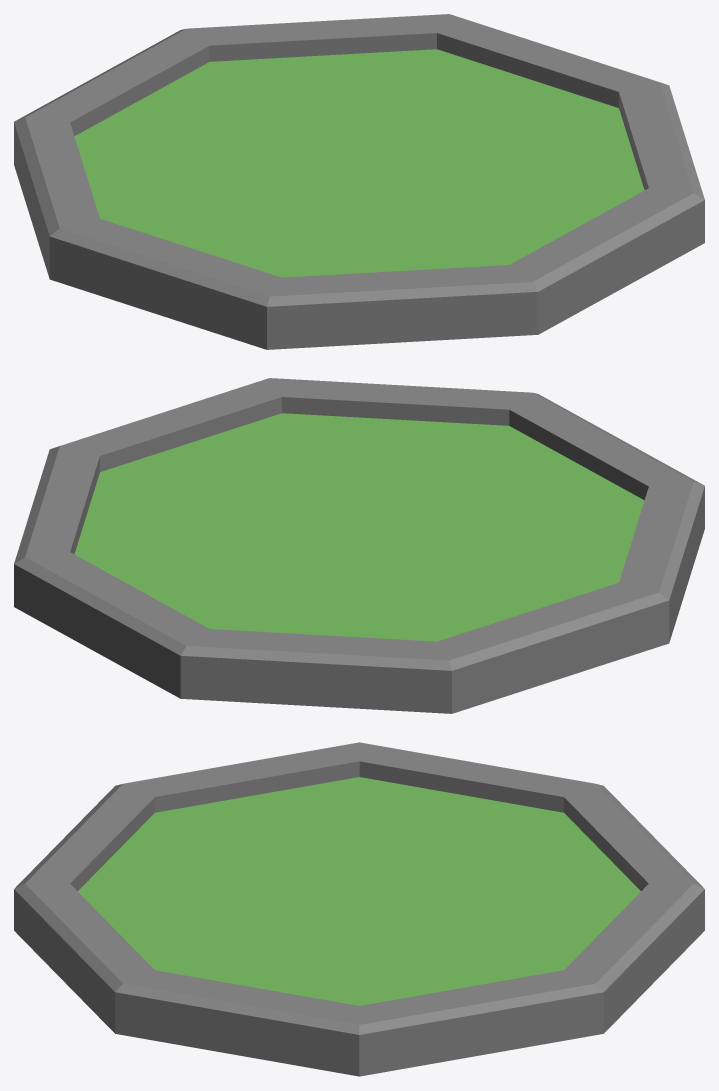
File: Flowerbed_08.fbx
3 views of the same model, one above another, from view 1: azimuth 30°, elevation 25°; view 2: azimuth 150°, elevation 25°; view 3: azimuth 270°, elevation 25° (orthographic). The views are drawn at different scales.
Parts seen in each view (by area): view 1: Flowerbed_08; view 2: Flowerbed_08; view 3: Flowerbed_08.
Boxes of the visible parts, left/top/right/bottom form: Flowerbed_08: left=14, top=14, right=704, bottom=349; Flowerbed_08: left=14, top=378, right=704, bottom=713; Flowerbed_08: left=14, top=742, right=704, bottom=1076.
Bounding box in the file's own units: 200 × 15 × 200.
